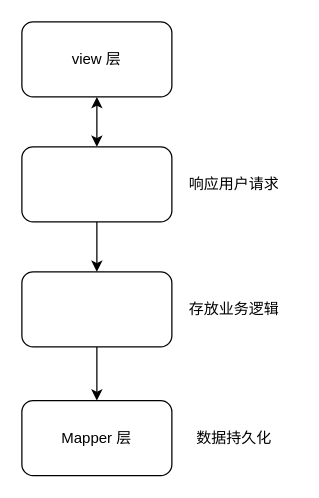
Image size: 319x498. Some labels were removed from this diagram. Here are the shapes that lost their labels. From the top down, the centre of each, then its label:
At (96,184): "Controller 层".
At (96,309): "Service 层".
